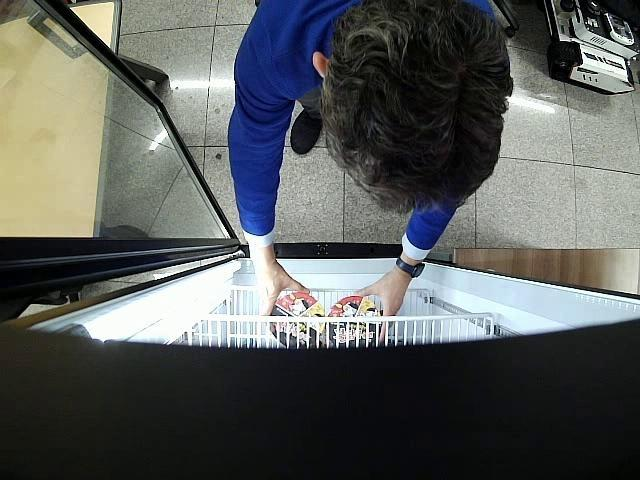07_buldak_L: (270, 291, 326, 349), (327, 296, 382, 346)
